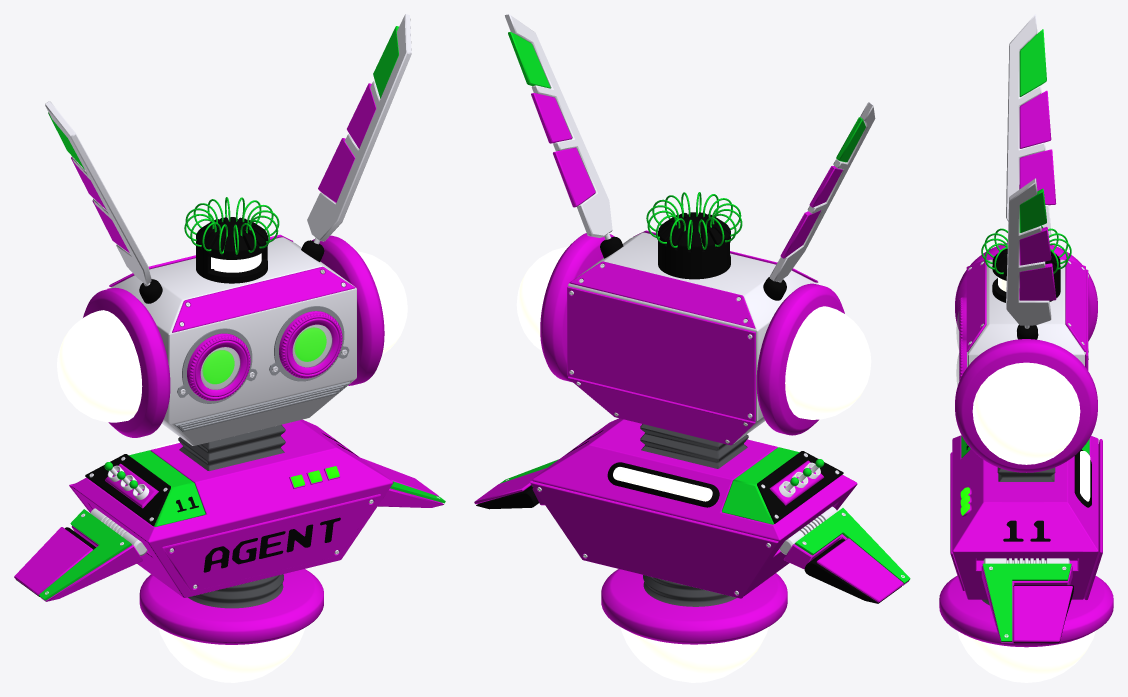
File: bee_bot7_purple_3.glb
3 views of the same model, side by side, from view 1: azimuth 30°, elevation 25°; view 2: azimuth 150°, elevation 25°; view 3: azimuth 270°, elevation 25° (orthographic). The views are drawn at different scales.
Visible parts, largest first — view 1: Cube.034; view 2: Cube.034; view 3: Cube.034.
Boxes of the visible parts, bbox=[...] form: Cube.034: bbox=[14, 14, 445, 682]; Cube.034: bbox=[474, 14, 910, 682]; Cube.034: bbox=[939, 14, 1113, 682].
Size of the model in its own units: 0.6985 by 1.02 by 0.278.
